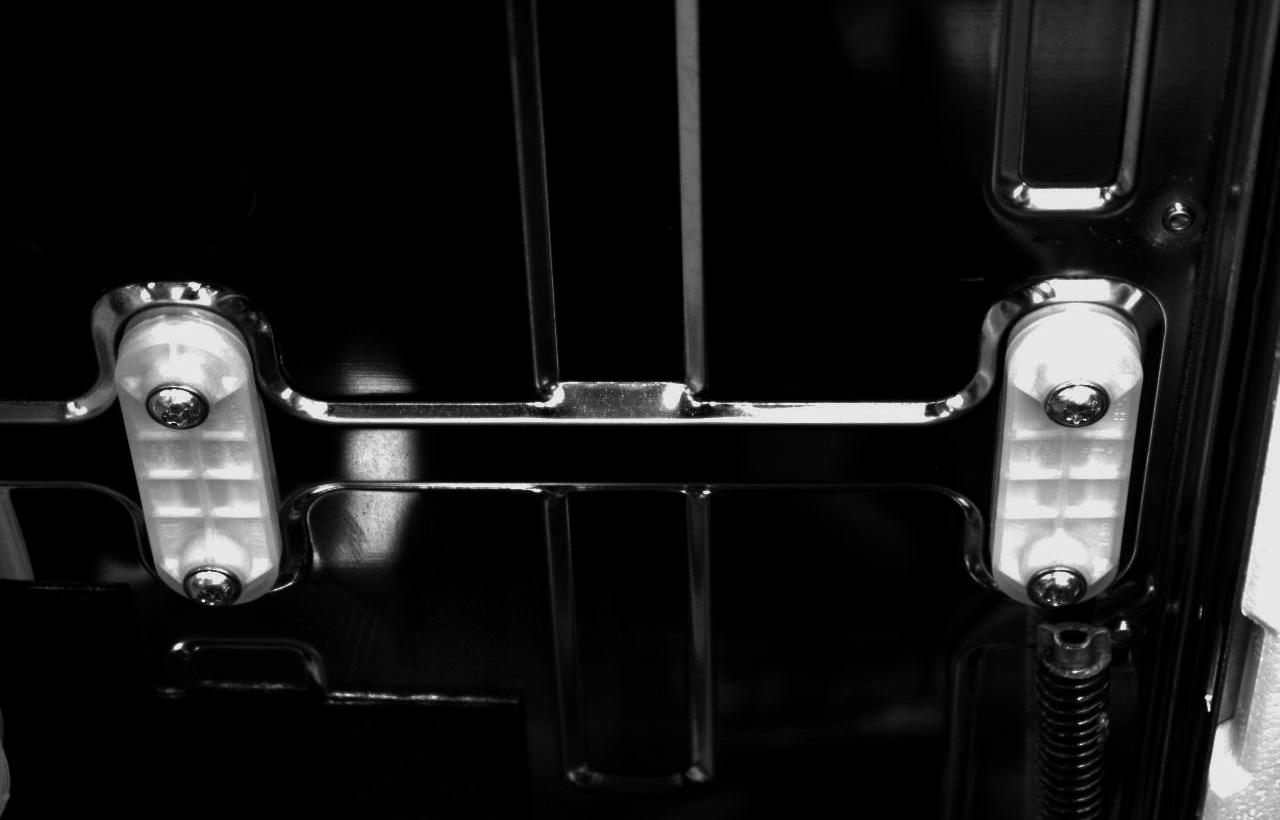vida-ok: (144, 369, 216, 437), (1043, 364, 1110, 431), (1023, 558, 1089, 617), (181, 554, 247, 612)
